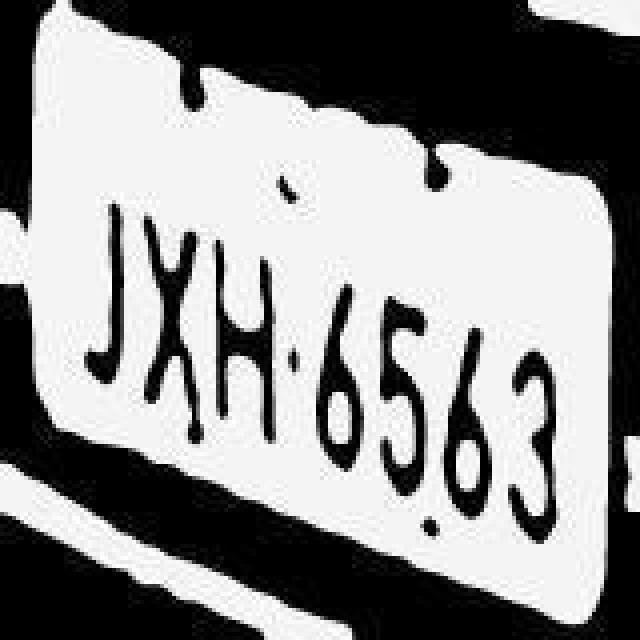3: (500, 292, 572, 556)
5: (376, 258, 440, 510)
6: (304, 246, 368, 506), (440, 274, 504, 526)
H: (212, 224, 284, 456)
J: (62, 138, 138, 406)
X: (136, 180, 208, 404)
